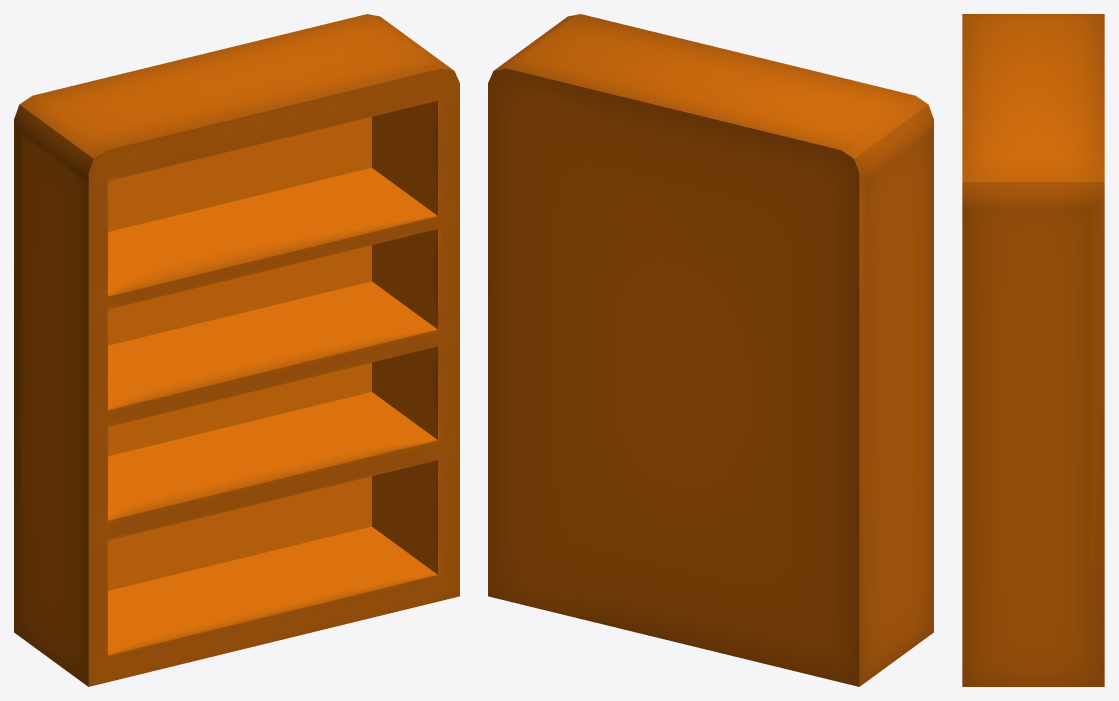
The model's file is cupboard_01.fbx.
The picture shows the model from 3 angles, left to right: view 1: azimuth 30°, elevation 25°; view 2: azimuth 150°, elevation 25°; view 3: azimuth 270°, elevation 25°; orthographic projection. The views are drawn at different scales.
Parts seen in each view (by area): view 1: cupboard_01; view 2: cupboard_01; view 3: cupboard_01.
Part boxes in pixels (<box>): cupboard_01: <box>14,14,459,686</box>; cupboard_01: <box>488,14,933,686</box>; cupboard_01: <box>962,14,1104,686</box>.
Size of the model in its own units: 677 by 927 by 235.
